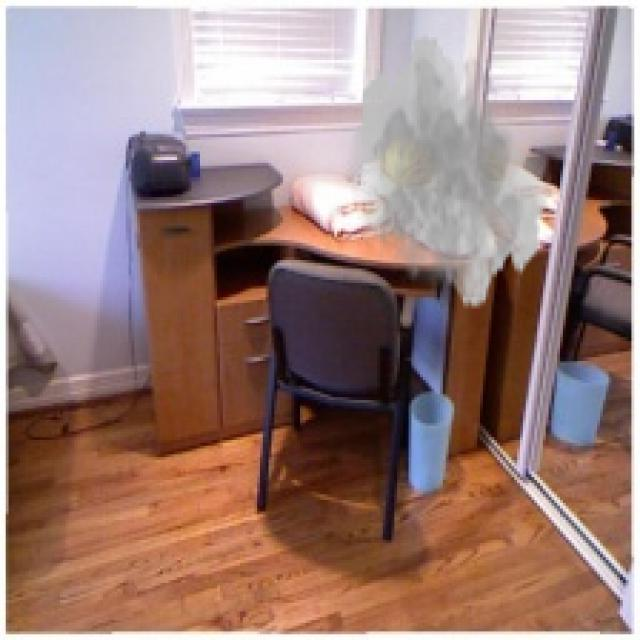smoke: (348, 31, 552, 312)
